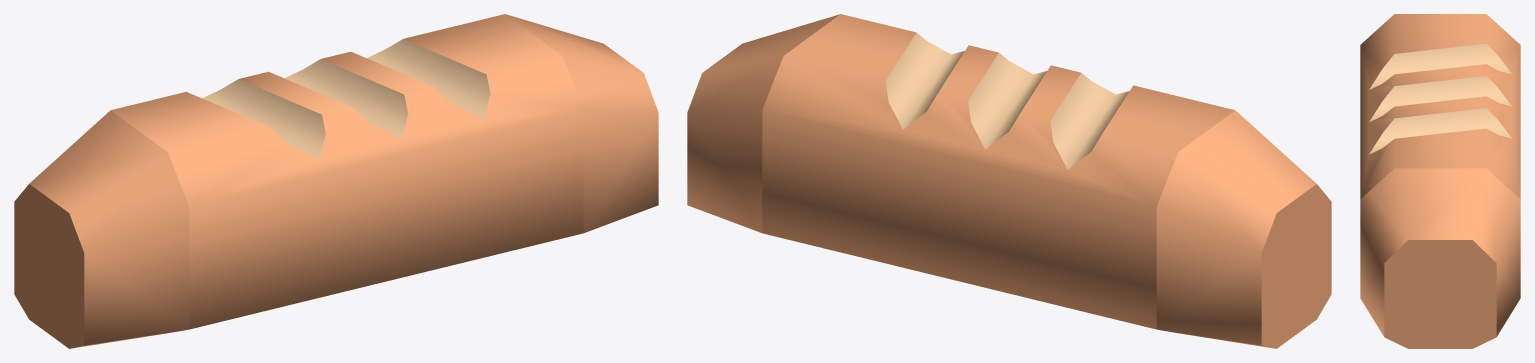
Rendered from Loaf Baguette.glb.
3 renders of one model, left to right at view 1: azimuth 30°, elevation 25°; view 2: azimuth 150°, elevation 25°; view 3: azimuth 270°, elevation 25°, orthographic. The views are drawn at different scales.
Visible parts, largest first — view 1: loafBaguette; view 2: loafBaguette; view 3: loafBaguette.
Boxes of the visible parts, left/top/right/bottom form: loafBaguette: left=14, top=14, right=658, bottom=348; loafBaguette: left=687, top=14, right=1331, bottom=348; loafBaguette: left=1360, top=14, right=1520, bottom=348.
Bounding box in the file's own units: 0.83 × 0.25 × 0.25.
